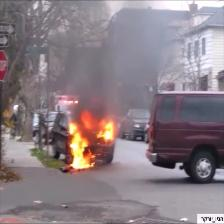fire: (68, 118, 113, 174)
smoke: (94, 36, 152, 104)
